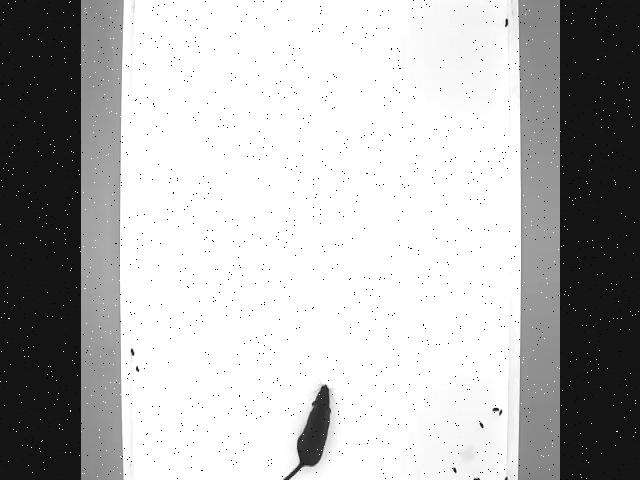Tikus: (239, 380, 333, 480)
